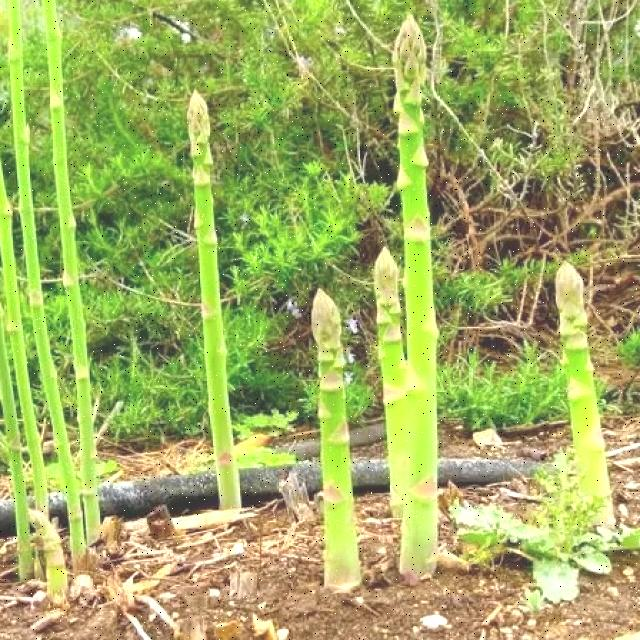aspargus: (393, 16, 438, 584), (186, 93, 239, 511), (312, 290, 361, 593), (555, 263, 608, 490)
